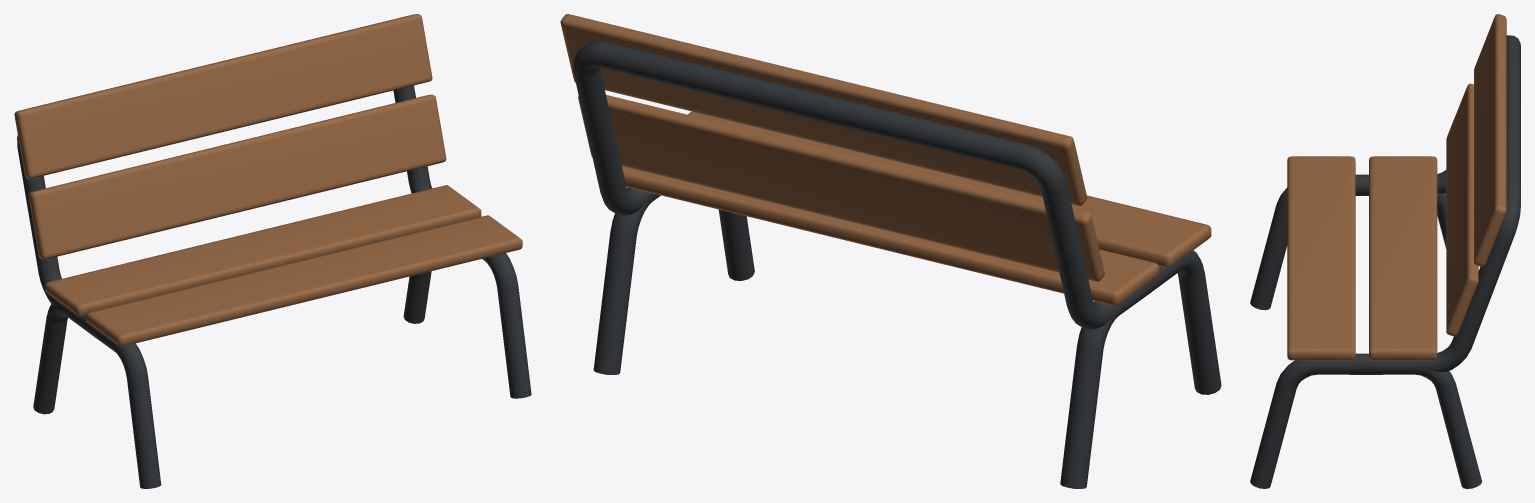
The model's file is bench.glb.
The picture shows the model from 3 angles, left to right: view 1: azimuth 30°, elevation 25°; view 2: azimuth 150°, elevation 25°; view 3: azimuth 270°, elevation 25°; orthographic projection. The views are drawn at different scales.
Visible parts, largest first — view 1: Plane.001, bench; view 2: Plane.001, bench; view 3: Plane.001, bench.
Part boxes in pixels (x1,y1,x2,y2): Plane.001: (14,14,522,346); bench: (17,85,531,488); Plane.001: (560,14,1211,306); bench: (573,41,1221,488); Plane.001: (1287,14,1506,360); bench: (1250,35,1520,488).
Size of the model in its own units: 2.37 by 1.61 by 1.37.
